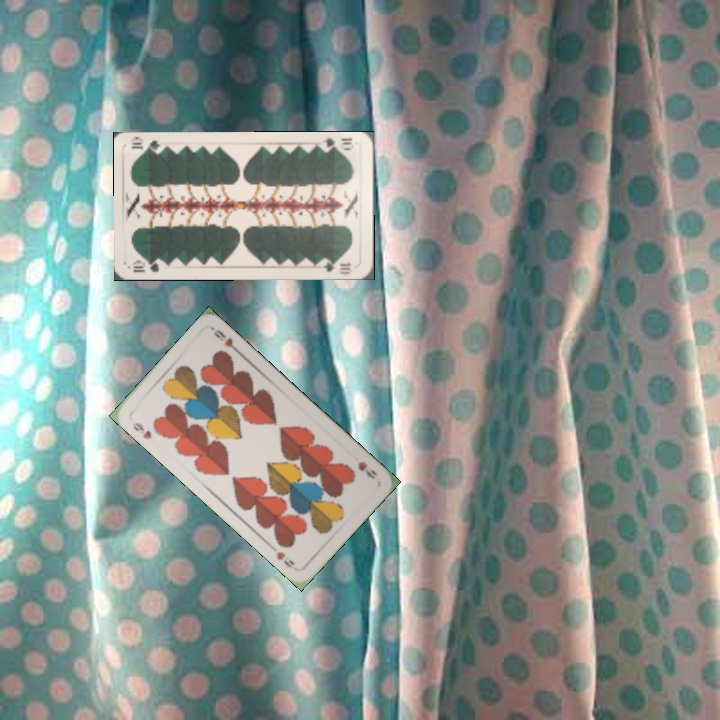G10: (317, 135, 356, 154), (129, 256, 161, 275)
H9: (353, 457, 379, 482), (128, 418, 154, 442)
